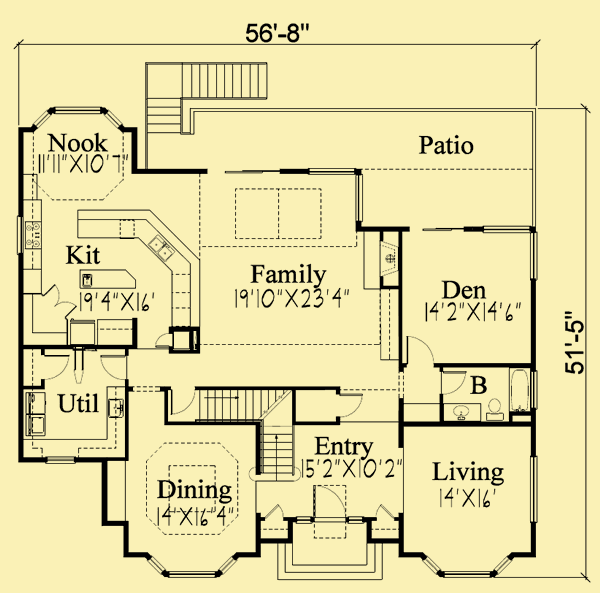door: (44, 284, 79, 321), (97, 353, 128, 384), (404, 335, 436, 365), (39, 353, 70, 380), (337, 391, 365, 419), (168, 387, 195, 416), (439, 369, 466, 395), (374, 502, 397, 521), (264, 504, 287, 522), (154, 331, 173, 347)
kitchen_bar: (77, 265, 139, 292)
large_sink: (485, 395, 505, 422)
small_sink: (441, 401, 484, 424)
stairs: (195, 389, 299, 484), (144, 61, 271, 136)
tub: (509, 365, 531, 411)
twin_sink: (145, 231, 177, 264)
window: (32, 104, 123, 132), (146, 554, 241, 580), (421, 555, 511, 580), (530, 454, 543, 530), (304, 167, 359, 179), (528, 232, 541, 281), (485, 224, 530, 237), (354, 173, 365, 225), (45, 454, 79, 465)
